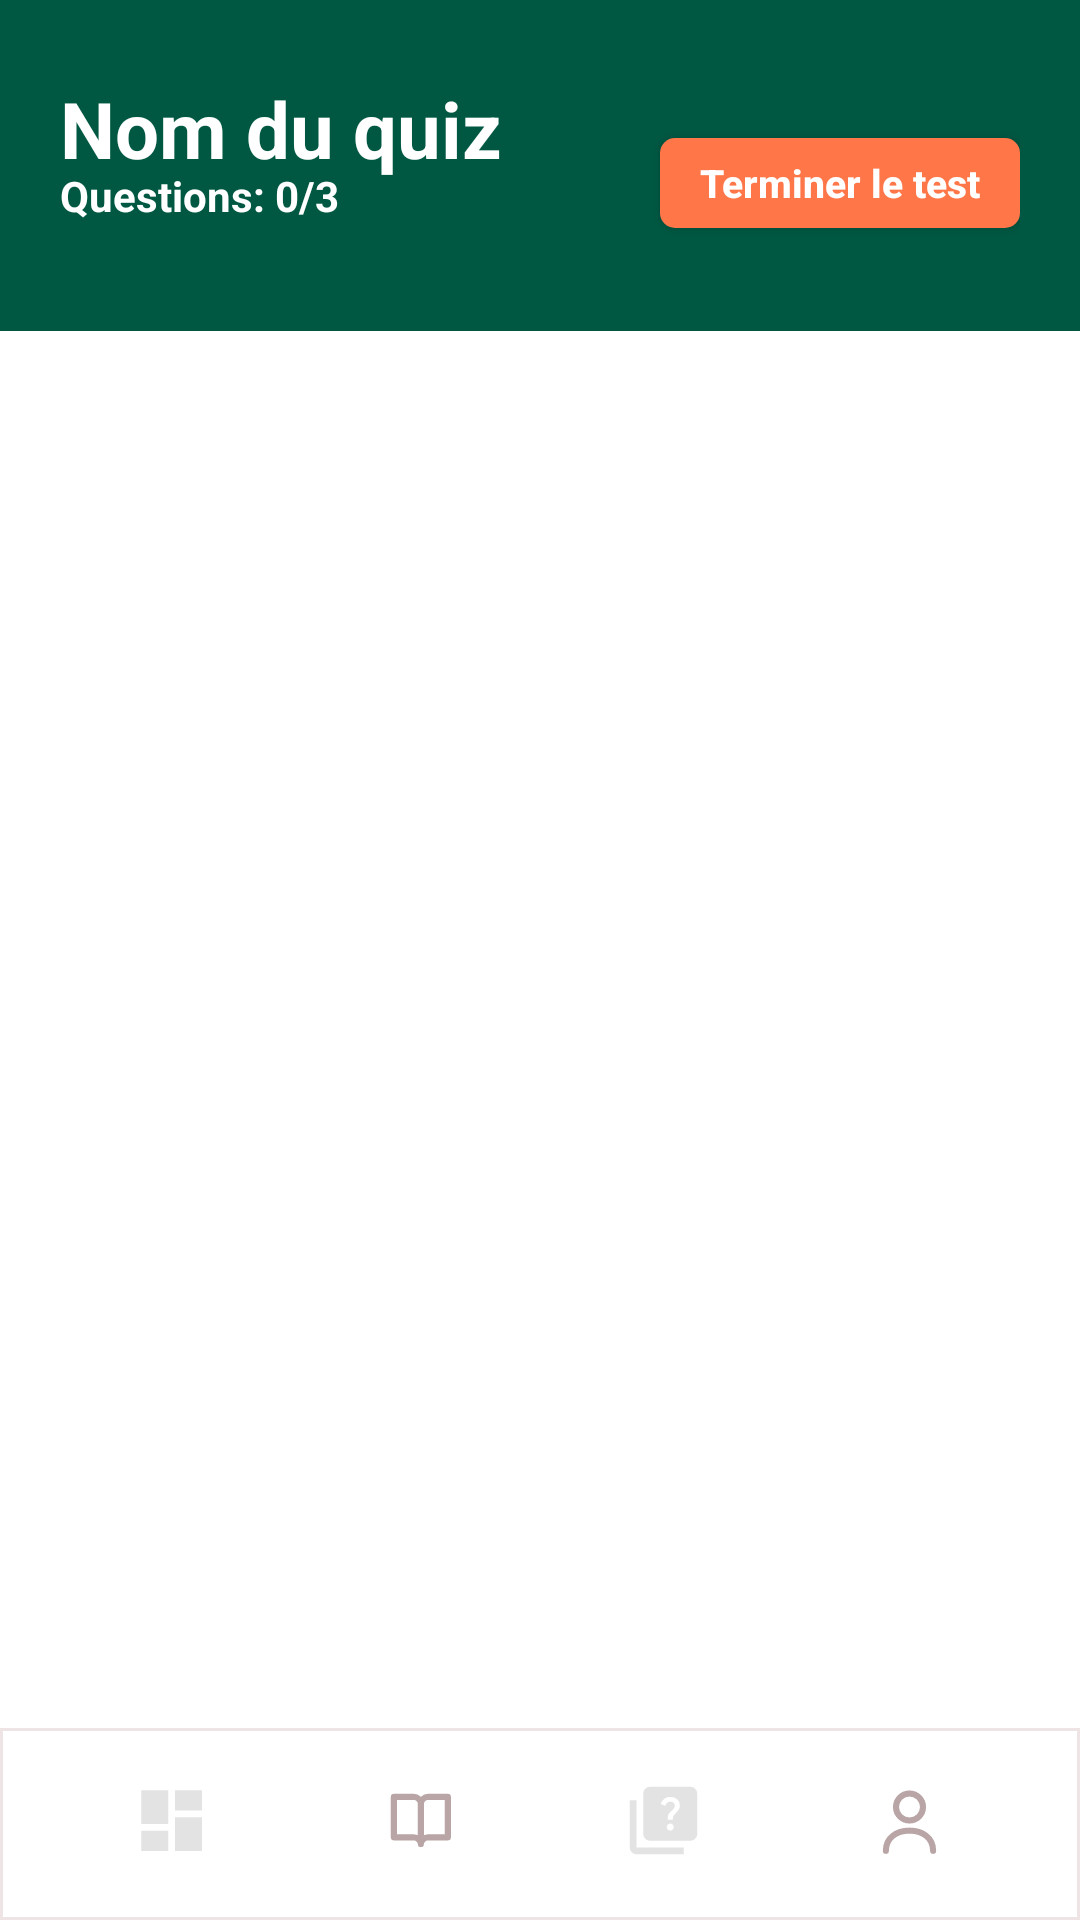

Named icons in this screenshot (1080px x 1920px) and their centers, (x,y):
Compte: (909,1822)
Cours: (421,1820)
Quiz: (663,1820)
Tableau de bord: (172,1821)
